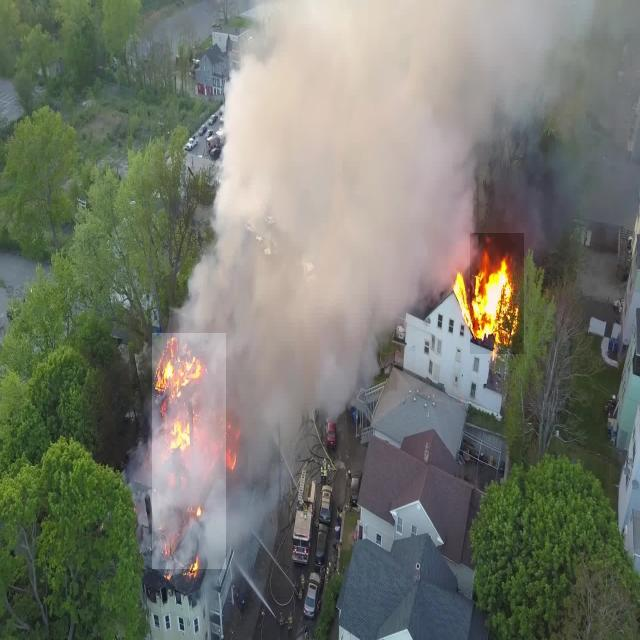Fire: (152, 333, 226, 569), (470, 233, 524, 354)
Smoke: (129, 0, 640, 587)
